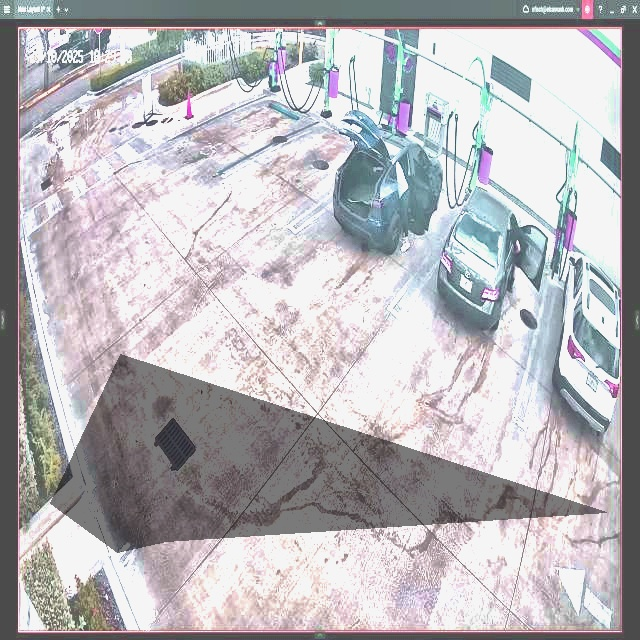Car: (333, 108, 442, 253), (438, 186, 542, 319)
